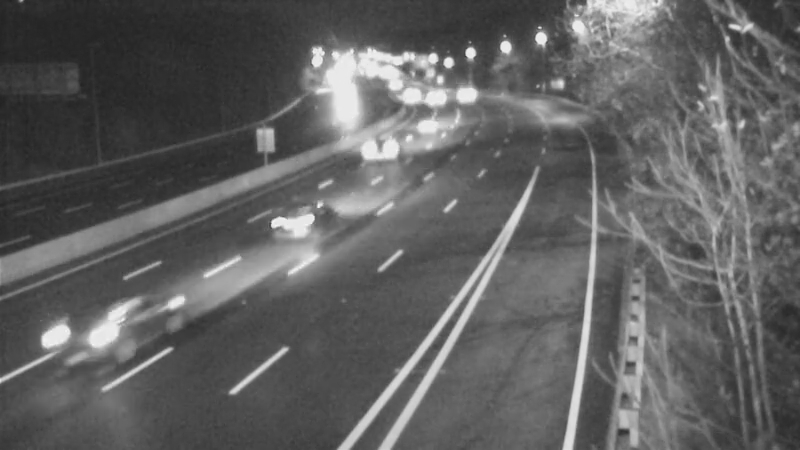vehicle: (24, 283, 134, 393), (237, 182, 317, 262), (440, 70, 490, 120), (378, 63, 428, 113), (408, 78, 458, 128), (405, 95, 455, 145), (363, 119, 413, 169), (317, 80, 367, 130)
